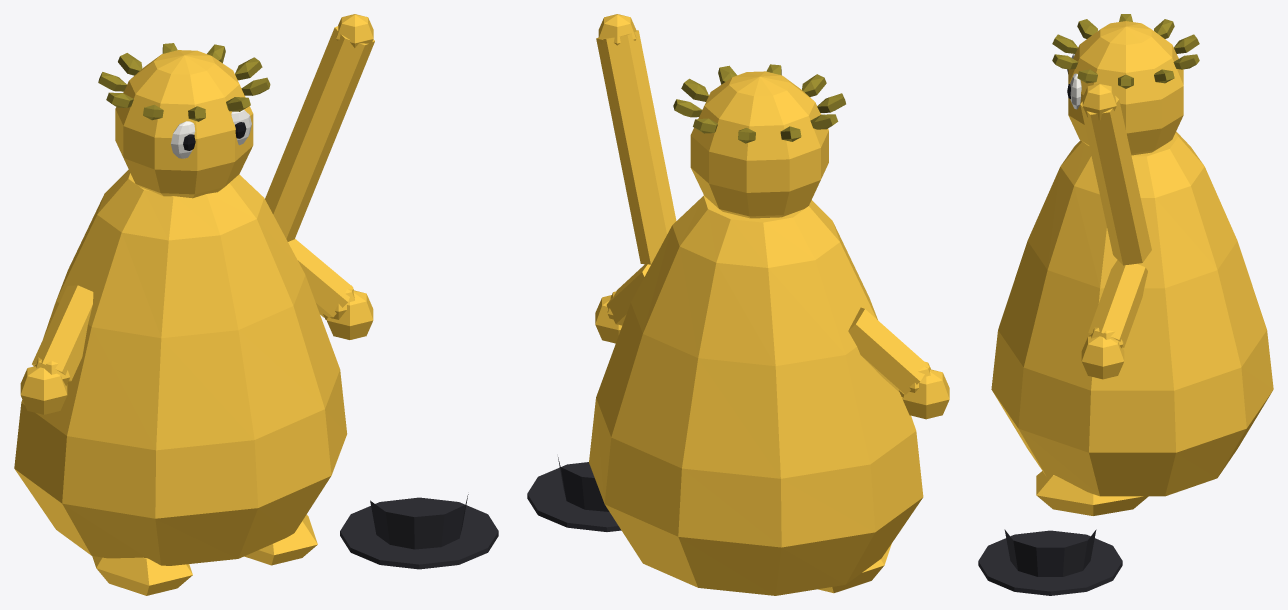
The model's file is npc_estatua.glb.
3 views of the same model, side by side, from view 1: azimuth 30°, elevation 25°; view 2: azimuth 150°, elevation 25°; view 3: azimuth 270°, elevation 25° (orthographic). The views are drawn at different scales.
Parts seen in each view (by area): view 1: body_statue_gold, head_statue_gold, props_statue_gold, arms_statue_gold, hat_statue_hat, legs_statue_gold, face_white; view 2: body_statue_gold, head_statue_gold, props_statue_gold, arms_statue_gold, hat_statue_hat, legs_statue_gold; view 3: body_statue_gold, head_statue_gold, hat_statue_hat, props_statue_gold, arms_statue_gold, legs_statue_gold.
Part boxes in pixels (x1,y1,x2,y2): body_statue_gold: (14, 169, 347, 565); head_statue_gold: (115, 50, 253, 198); props_statue_gold: (265, 14, 374, 241); arms_statue_gold: (20, 239, 373, 414); hat_statue_hat: (340, 494, 498, 569); legs_statue_gold: (92, 514, 317, 595); face_white: (171, 109, 251, 158); body_statue_gold: (589, 195, 923, 595); head_statue_gold: (690, 71, 828, 218); props_statue_gold: (596, 14, 676, 264); arms_statue_gold: (595, 264, 949, 419); hat_statue_hat: (527, 457, 621, 531); legs_statue_gold: (818, 544, 891, 593); body_statue_gold: (991, 131, 1273, 496); head_statue_gold: (1068, 21, 1183, 155); hat_statue_hat: (978, 529, 1122, 595); props_statue_gold: (1080, 83, 1151, 265); arms_statue_gold: (1081, 260, 1147, 379); legs_statue_gold: (1036, 471, 1148, 515).
Bounding box in the file's own units: 1.4 × 1.57 × 0.9.
